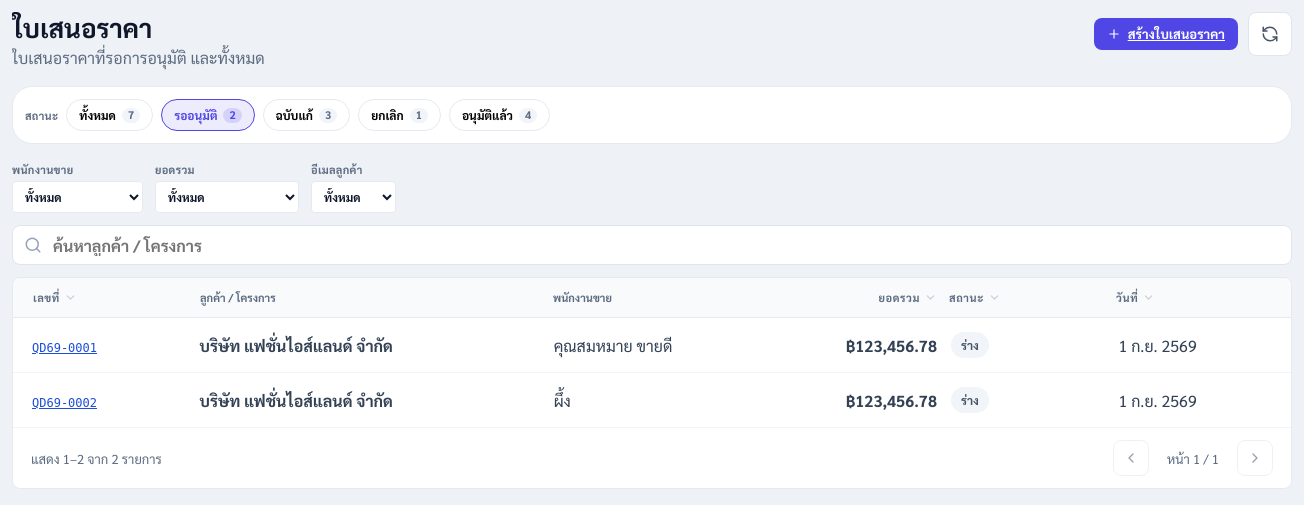
QuotationListPage › sales_manager sees the rep dropdown and selecting a rep narrows the rows
The width and height of the screenshot is (1304, 505).
Check: the text "QD69-0001" is shown, box [32, 341, 97, 355]
Check: the text "QD69-0002" is shown, box [32, 396, 97, 410]
Select "คุณสมหมาย ขายดี" in the dropdown named "กรองตามพนักงานขาย": (78, 197) [12, 181, 143, 213]
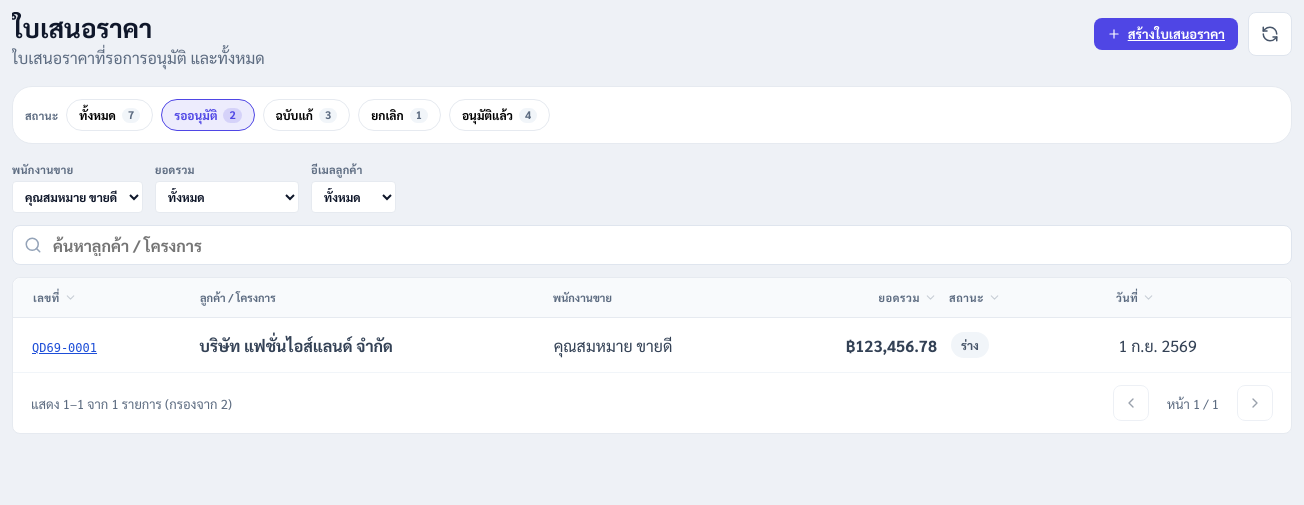
Check: the text "QD69-0001" is shown, box [32, 341, 97, 355]
Check: the link "QD69-0002" is gone
